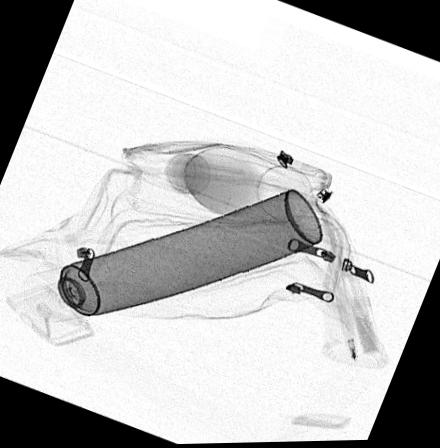Sprayer: (19, 190, 322, 320)
